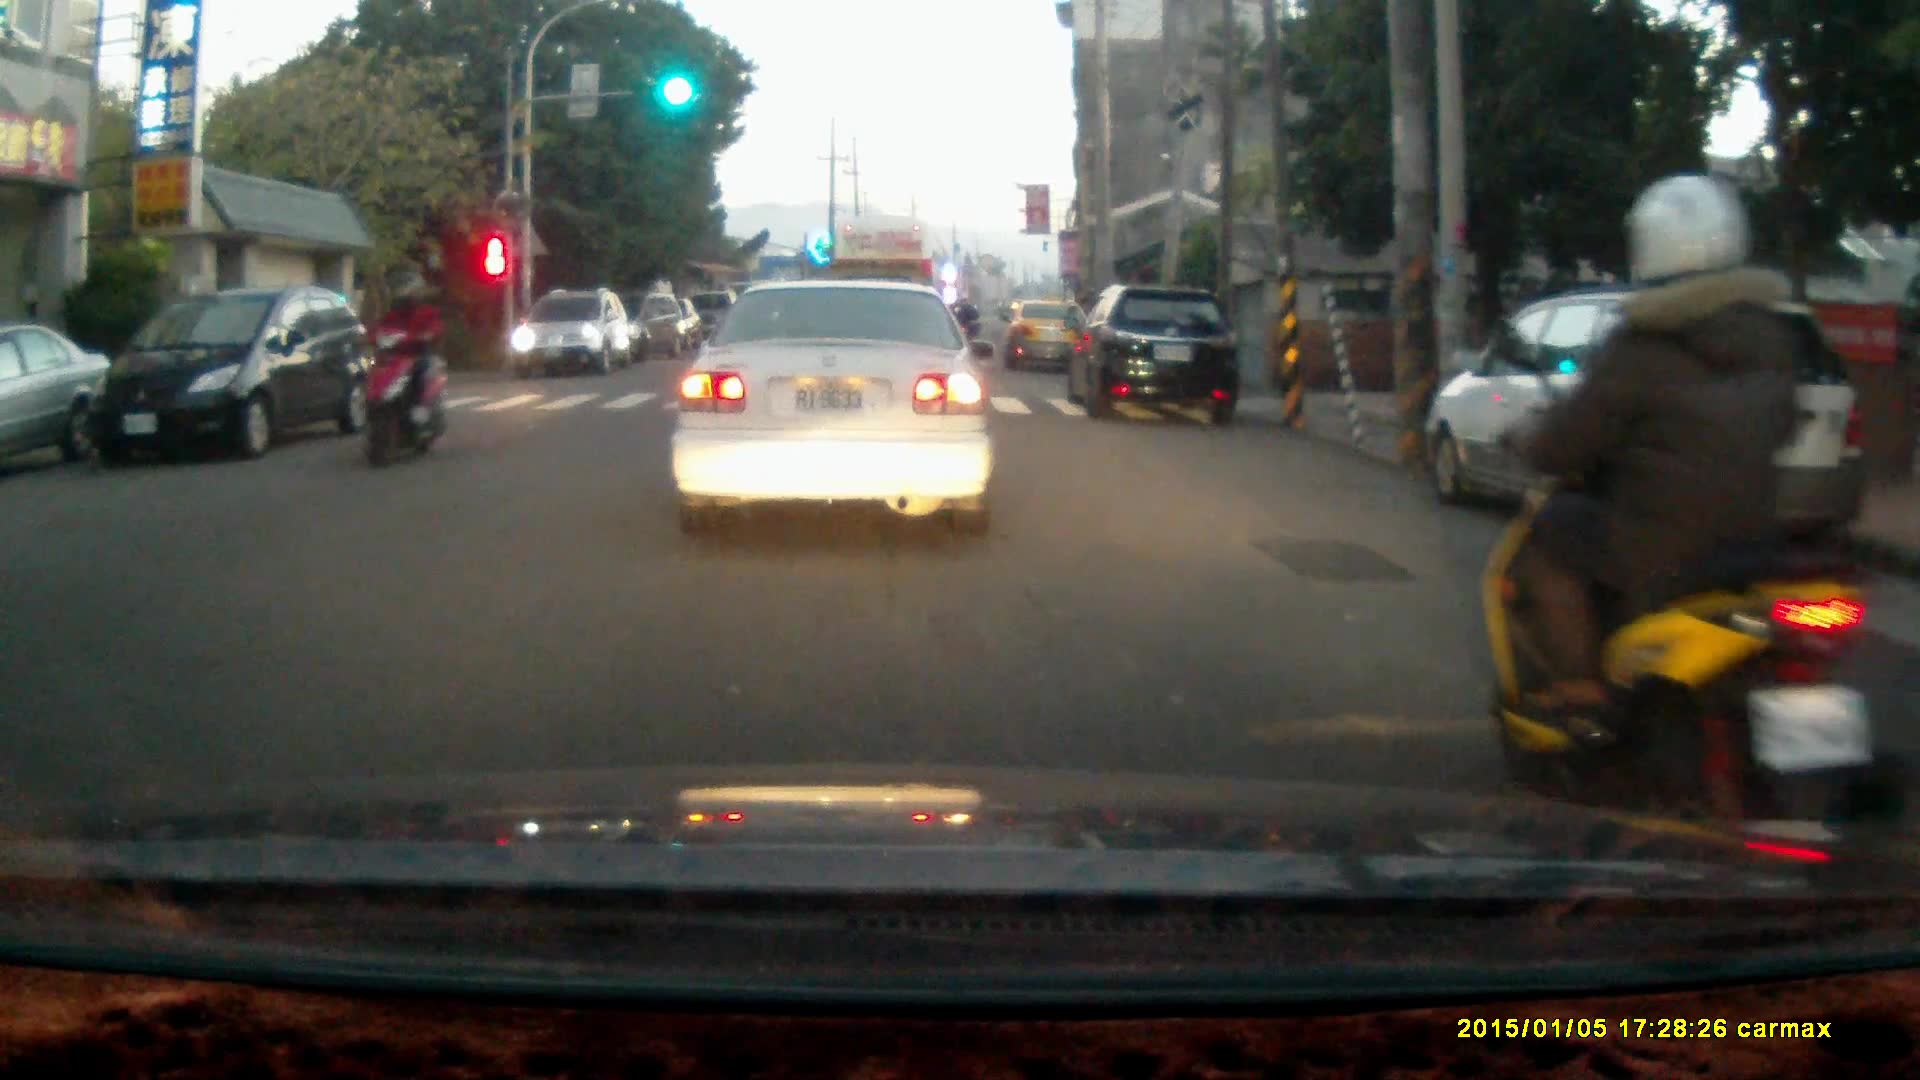rider: (1477, 172, 1916, 886), (352, 267, 441, 468)
vehicle: (1423, 290, 1873, 559), (675, 273, 997, 533), (82, 282, 383, 465), (1077, 284, 1239, 423), (827, 209, 943, 364), (0, 320, 109, 474), (512, 291, 635, 380), (1004, 297, 1099, 376)
